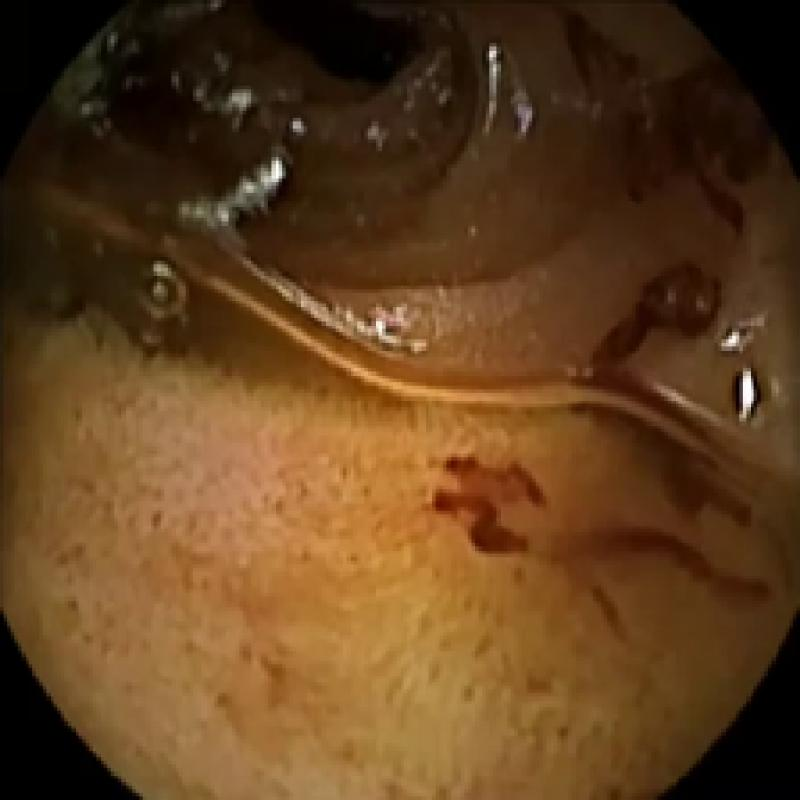bleeding: (572, 265, 776, 600), (564, 11, 775, 225), (428, 445, 544, 556)
